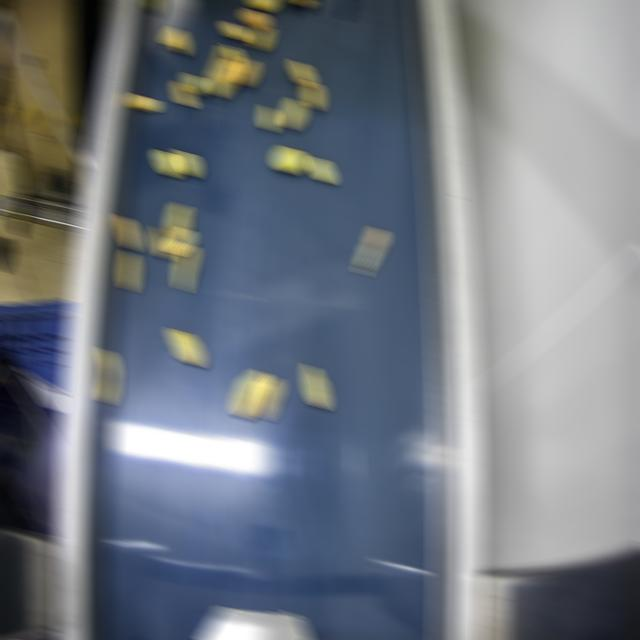Baby Potato: (234, 370, 267, 417), (356, 229, 385, 275), (169, 328, 202, 366), (209, 59, 238, 96), (255, 377, 280, 419), (98, 349, 117, 403), (304, 366, 327, 408), (176, 245, 195, 291), (272, 147, 305, 173), (115, 215, 138, 250), (165, 227, 192, 255), (167, 202, 188, 238), (120, 250, 137, 291), (281, 99, 304, 128), (210, 49, 231, 80), (162, 28, 187, 54), (235, 57, 256, 85), (311, 157, 332, 183), (291, 61, 312, 87), (175, 152, 198, 175), (156, 153, 179, 176), (250, 24, 271, 49), (173, 81, 194, 106), (153, 229, 170, 259), (242, 9, 267, 29), (129, 93, 158, 110), (304, 81, 321, 109), (221, 22, 246, 41), (183, 72, 204, 94), (260, 107, 277, 131), (225, 47, 242, 71), (248, 0, 275, 10), (146, 0, 161, 11), (297, 0, 314, 7), (283, 0, 298, 5)
